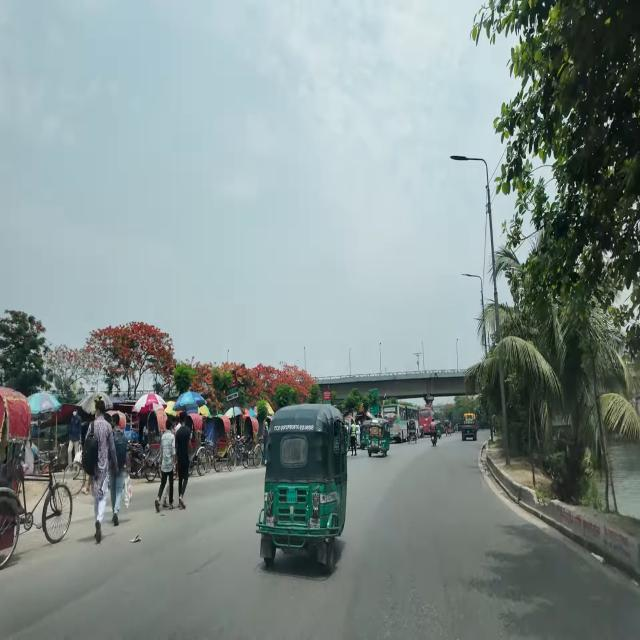person: (82, 401, 118, 544), (107, 414, 128, 526), (155, 418, 176, 512), (175, 412, 191, 509)
